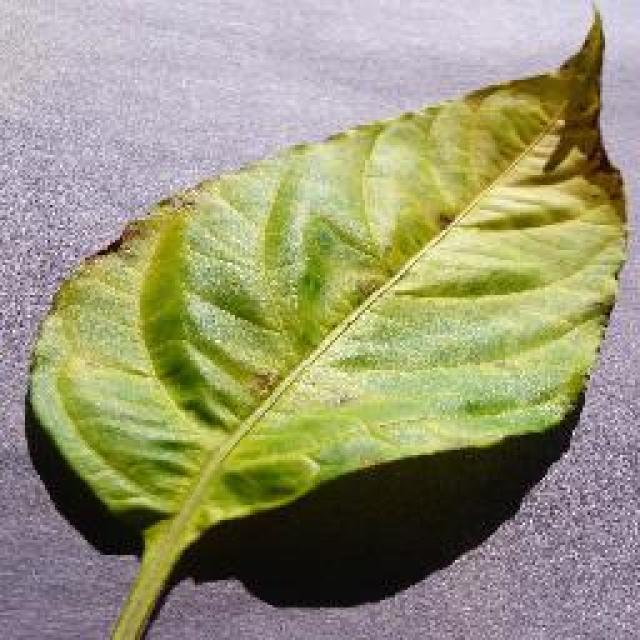Chilli_Bacterial_Spot: (20, 0, 630, 550), (225, 352, 303, 411)
